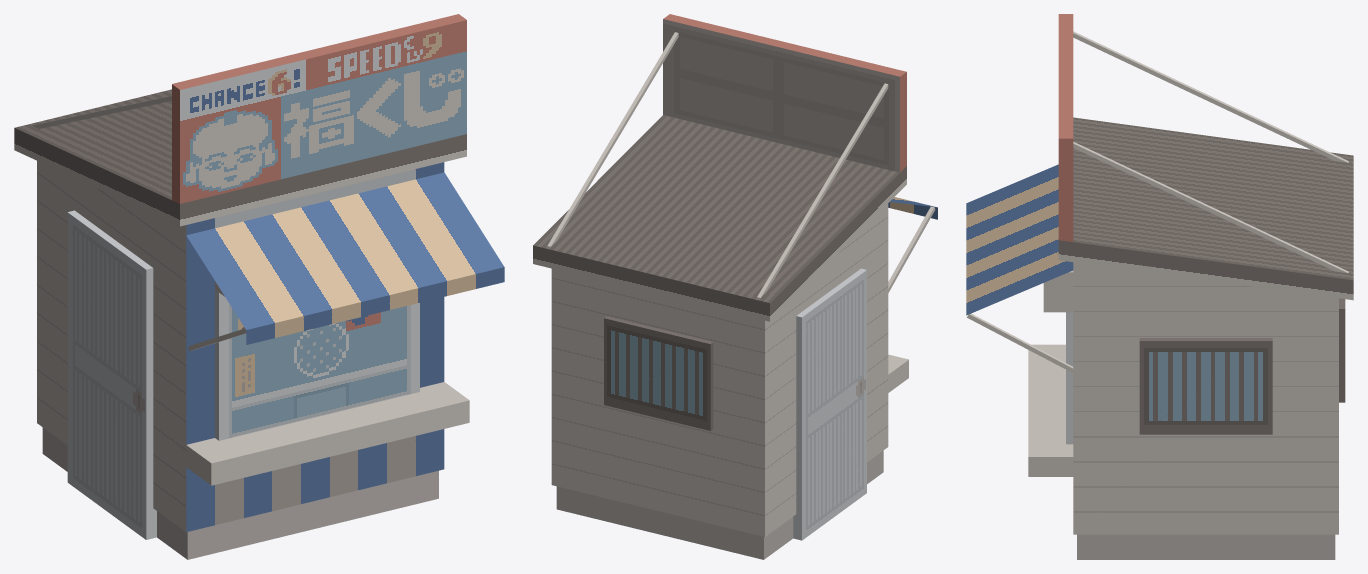
File: 0108_Lotto_Store.glb
3 renders of one model, left to right at view 1: azimuth 30°, elevation 25°; view 2: azimuth 150°, elevation 25°; view 3: azimuth 270°, elevation 25°, orthographic. The views are drawn at different scales.
Parts seen in each view (by area): view 1: part_0; view 2: part_0; view 3: part_0.
Part boxes in pixels (<box>): part_0: <box>14,14,504,559</box>; part_0: <box>533,14,937,559</box>; part_0: <box>966,14,1353,559</box>.
Size of the model in its own units: 2 by 3.21 by 2.63.
Materials: 1 (1 with a texture image).
